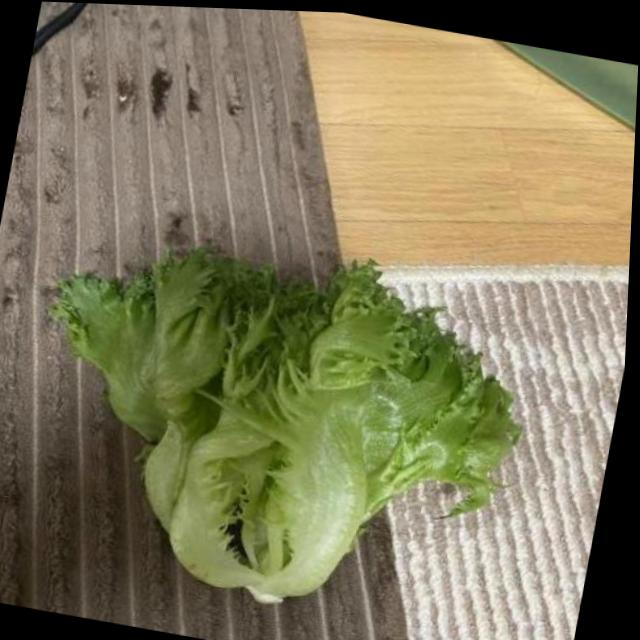Mature: (51, 248, 518, 602)
